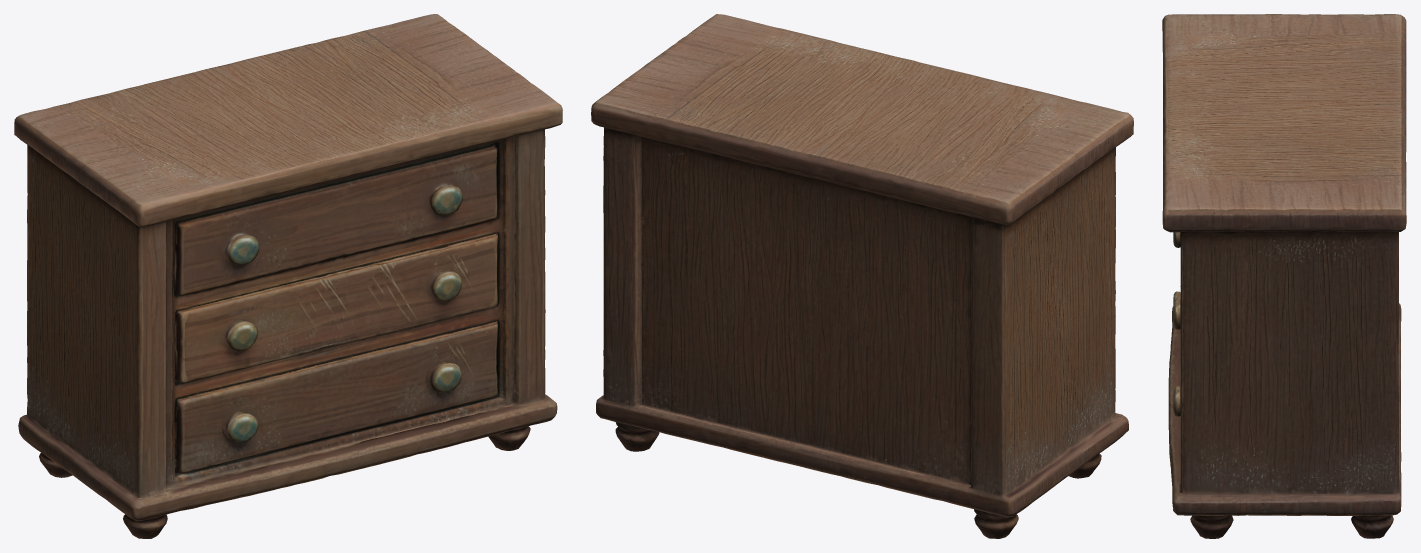
File: Furn_Dresser.fbx
3 renders of one model, left to right at view 1: azimuth 30°, elevation 25°; view 2: azimuth 150°, elevation 25°; view 3: azimuth 270°, elevation 25°, orthographic. The views are drawn at different scales.
Visible parts, largest first — view 1: texture_mapping; view 2: texture_mapping; view 3: texture_mapping.
Part boxes in pixels (x1,y1,x2,y2): texture_mapping: (14,14,562,538); texture_mapping: (591,14,1133,538); texture_mapping: (1162,14,1406,538).
Size of the model in its own units: 1 by 0.5203 by 0.7953.
Materials: 1 (1 with a texture image).
